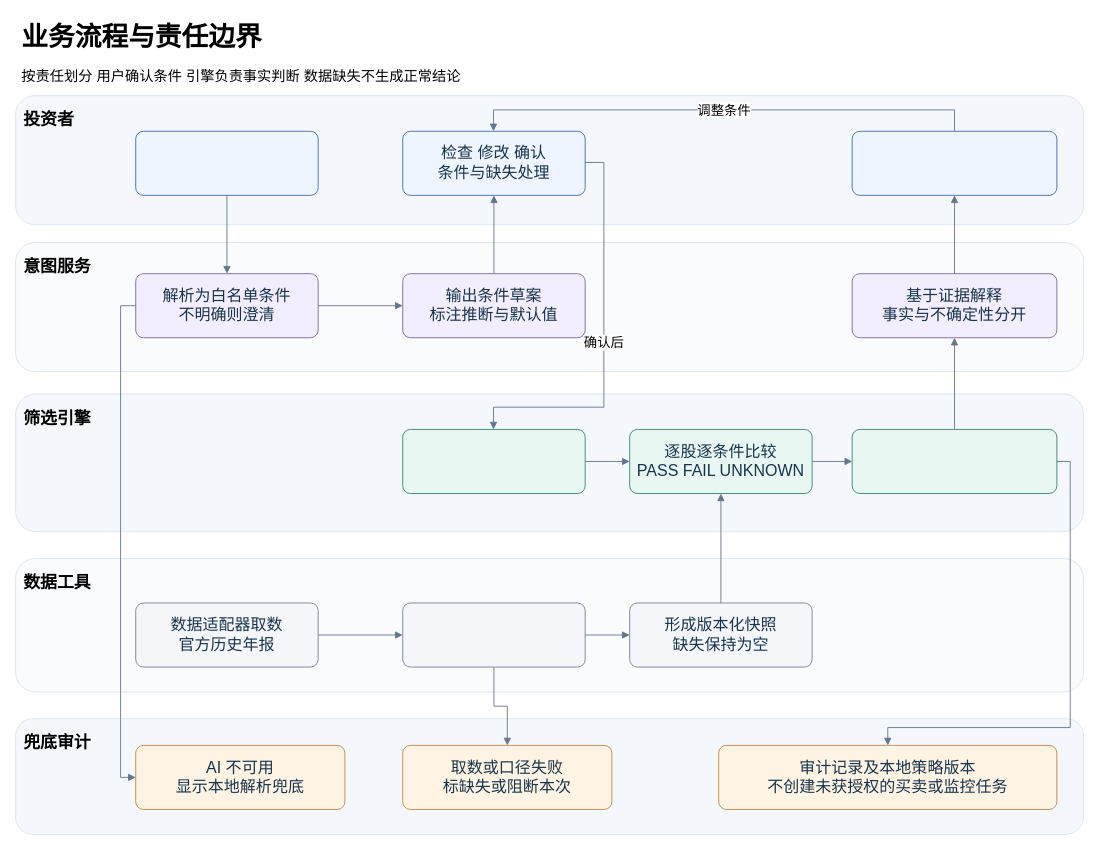
This 1099x850 diagram has some shape labels left out. The shapes that lost their labels are listed below. From the top down, each one's box as (x1, y1, x2, y2) in pixels, then its label:
(135, 130, 318, 195): 输入自然语言意图
(851, 130, 1057, 195): 查证 选股比较 保存或再改条件
(402, 429, 585, 494): 校验字段及冲突 锁定规则与快照
(851, 429, 1057, 494): 生成原因与证据 计算同快照结果差异
(402, 602, 585, 667): 核对单位 报告期 来源及可得时间
